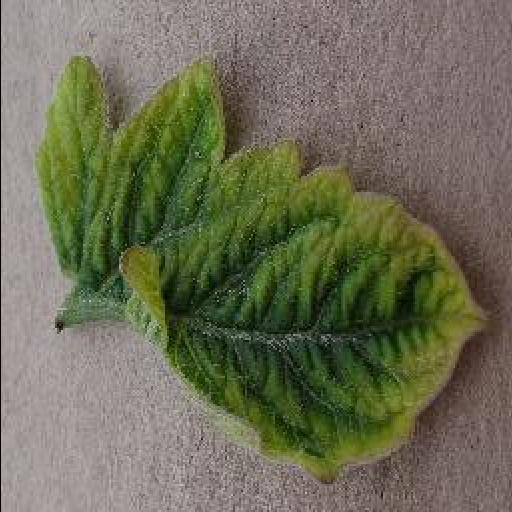disease_tomato: (40, 56, 486, 488)
